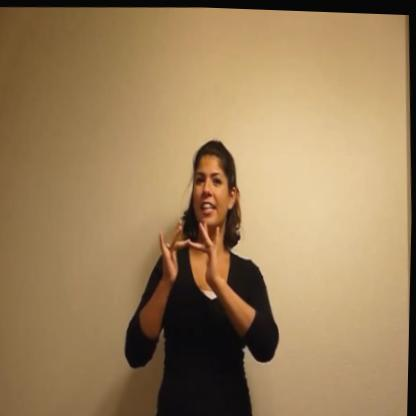Internet: (117, 134, 288, 416)
